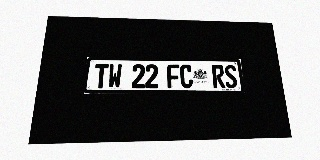2: (132, 64, 145, 88), (145, 64, 158, 88)
C: (180, 64, 193, 88)
F: (167, 64, 180, 88)
R: (212, 65, 225, 88)
S: (224, 65, 238, 88)
T: (94, 64, 109, 88)
W: (108, 64, 122, 88)
